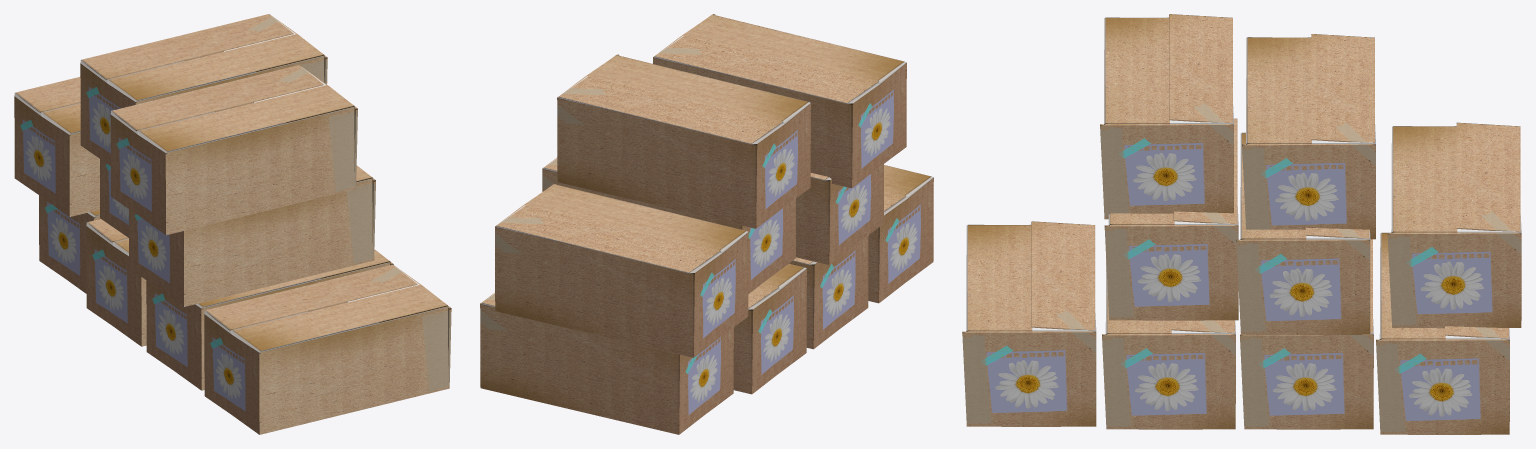
Rendered from caja_margarita.glb.
3 renders of one model, left to right at view 1: azimuth 30°, elevation 25°; view 2: azimuth 150°, elevation 25°; view 3: azimuth 270°, elevation 25°, orthographic. The views are drawn at different scales.
Parts seen in each view (by area): view 1: Cube.008, Cube.003, Cube.004, Cube.007, Cube.002, Cube, Cube.001, Cube.006, Cube.005; view 2: Cube.002, Cube.007, Cube.003, Cube.006, Cube.001, Cube.008, Cube.004, Cube, Cube.005; view 3: Cube.008, Cube.002, Cube.003, Cube.007, Cube.006, Cube.004, Cube, Cube.005, Cube.001.
Boxes of the visible parts, left/top/right/bottom form: Cube.008: left=204, top=264, right=451, bottom=434; Cube.003: left=110, top=65, right=357, bottom=235; Cube.004: left=129, top=165, right=375, bottom=306; Cube.007: left=80, top=14, right=327, bottom=166; Cube.002: left=14, top=77, right=99, bottom=216; Cube: left=146, top=249, right=393, bottom=390; Cube.001: left=86, top=219, right=146, bottom=346; Cube.006: left=39, top=195, right=100, bottom=293; Cube.005: left=100, top=159, right=128, bottom=237; Cube.002: left=495, top=183, right=748, bottom=357; Cube.007: left=557, top=54, right=810, bottom=228; Cube.003: left=653, top=14, right=906, bottom=188; Cube.006: left=480, top=293, right=733, bottom=434; Cube.001: left=733, top=263, right=806, bottom=394; Cube.008: left=868, top=165, right=933, bottom=303; Cube.004: left=796, top=164, right=883, bottom=264; Cube: left=789, top=235, right=868, bottom=349; Cube.005: left=542, top=157, right=795, bottom=293; Cube.008: left=962, top=221, right=1096, bottom=426; Cube.002: left=1387, top=122, right=1521, bottom=328; Cube.003: left=1100, top=14, right=1233, bottom=219; Cube.007: left=1242, top=34, right=1375, bottom=239; Cube.006: left=1376, top=232, right=1509, bottom=434; Cube.004: left=1104, top=118, right=1238, bottom=320; Cube: left=1102, top=258, right=1235, bottom=429; Cube.005: left=1236, top=132, right=1370, bottom=334; Cube.001: left=1240, top=239, right=1373, bottom=429.
Bounding box in the file's own units: 2.68 × 2.66 × 4.68.
3 materials, 3 textured.
